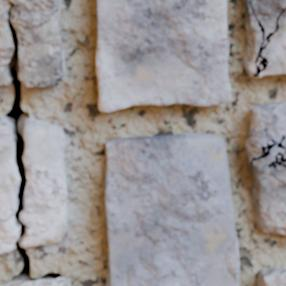brick: (105, 134, 238, 285), (96, 0, 229, 111), (244, 103, 285, 233), (260, 12, 285, 76), (244, 0, 261, 76), (252, 0, 285, 34), (5, 277, 69, 285), (258, 268, 285, 285)
broken_brick: (22, 117, 68, 248), (0, 0, 65, 87), (0, 117, 18, 254), (0, 72, 10, 89)
crack: (0, 2, 61, 283), (248, 0, 285, 77)
